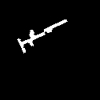double_crochet: (18, 20, 66, 51)
